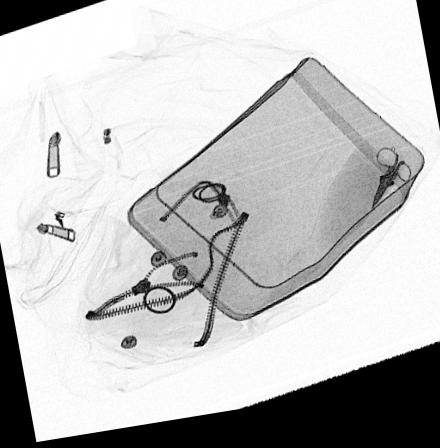Scissors: (370, 158, 412, 222)
